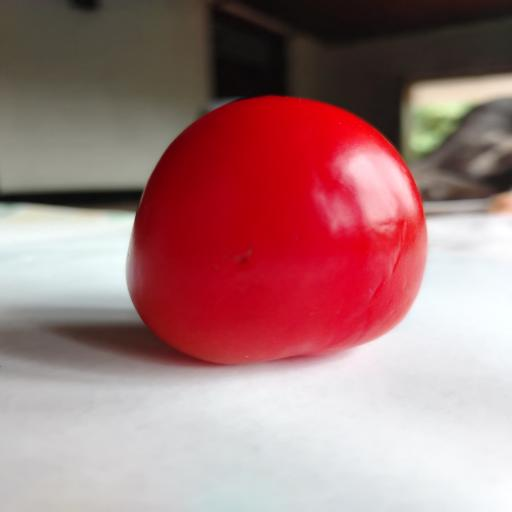ripe: (127, 96, 427, 364)
